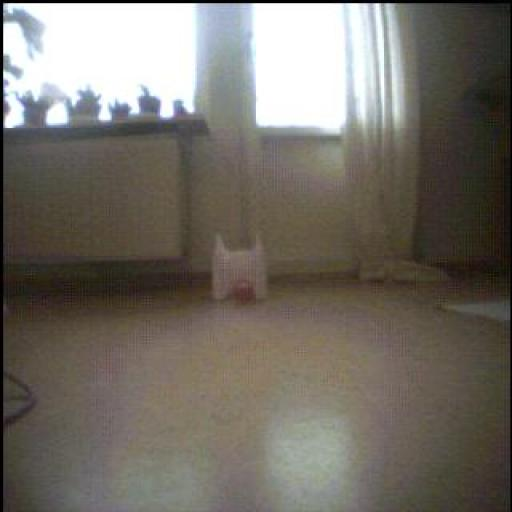Basket: (233, 281, 257, 303)
